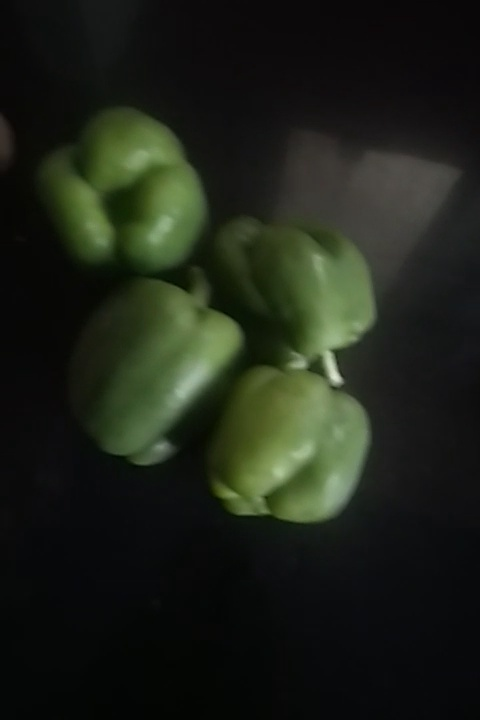capsicum: (74, 254, 235, 472), (203, 350, 391, 533), (32, 109, 226, 286), (212, 200, 388, 385)
